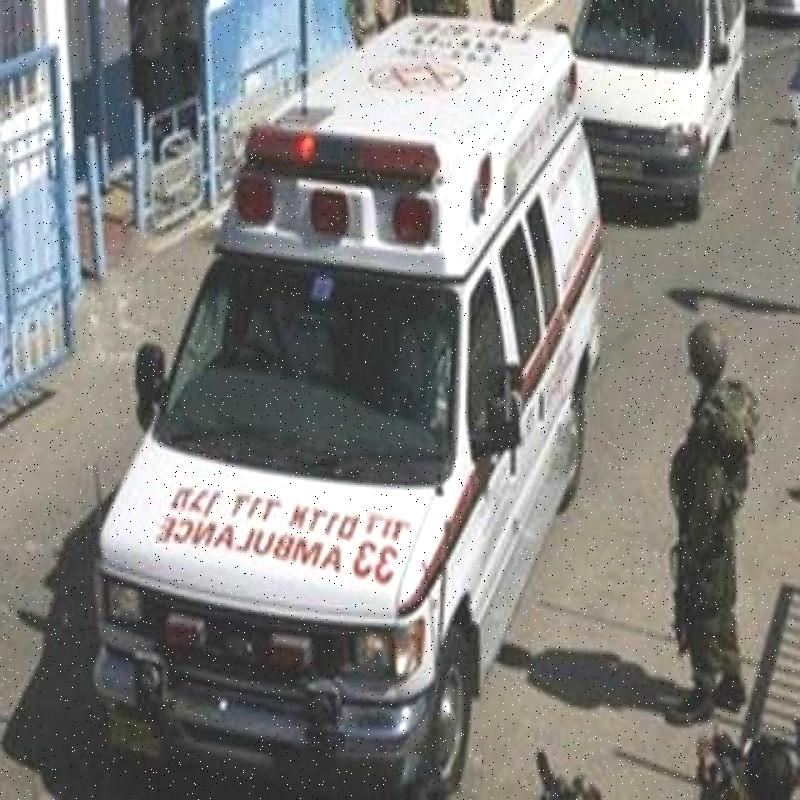AmbulanceSiren: (256, 112, 437, 180)
